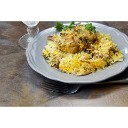briyani: (46, 23, 121, 71)
